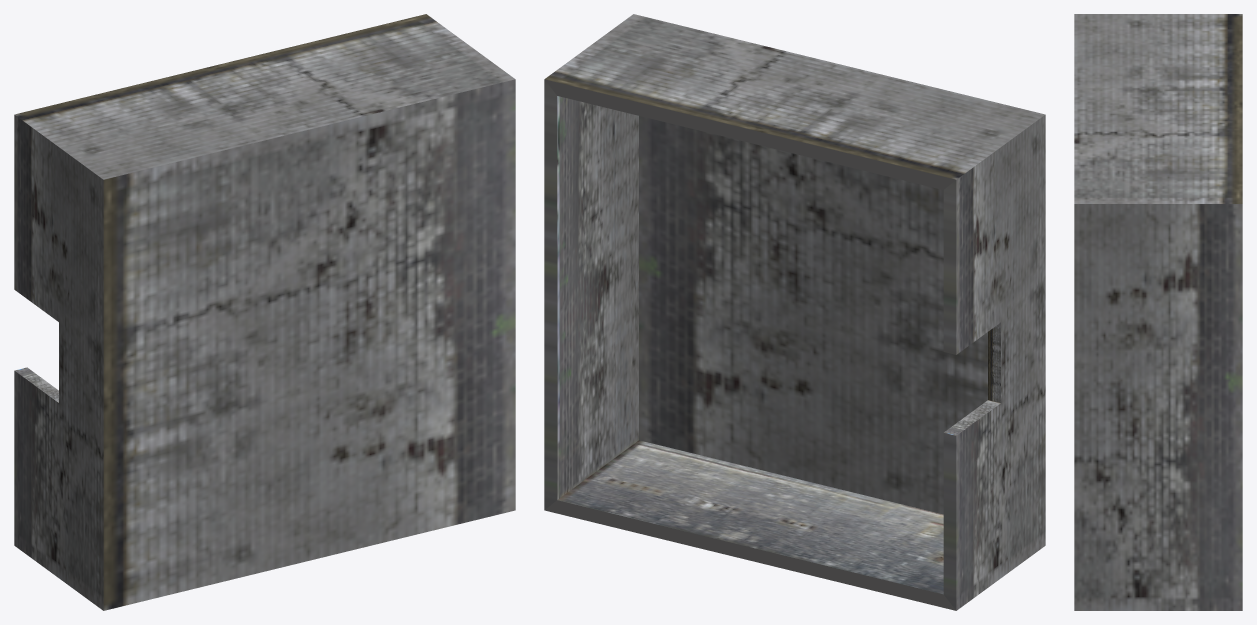
Rendered from 8x8Westdoor_wtf.obj.
The picture shows the model from 3 angles, left to right: view 1: azimuth 30°, elevation 25°; view 2: azimuth 150°, elevation 25°; view 3: azimuth 270°, elevation 25°; orthographic projection. The views are drawn at different scales.
Parts seen in each view (by area): view 1: group2; view 2: group2; view 3: group2.
Part boxes in pixels (left/top/right/bottom): group2: left=14, top=14, right=515, bottom=610; group2: left=544, top=14, right=1045, bottom=610; group2: left=1074, top=14, right=1242, bottom=610.
Bounding box in the file's own units: 660 × 660 × 248.
